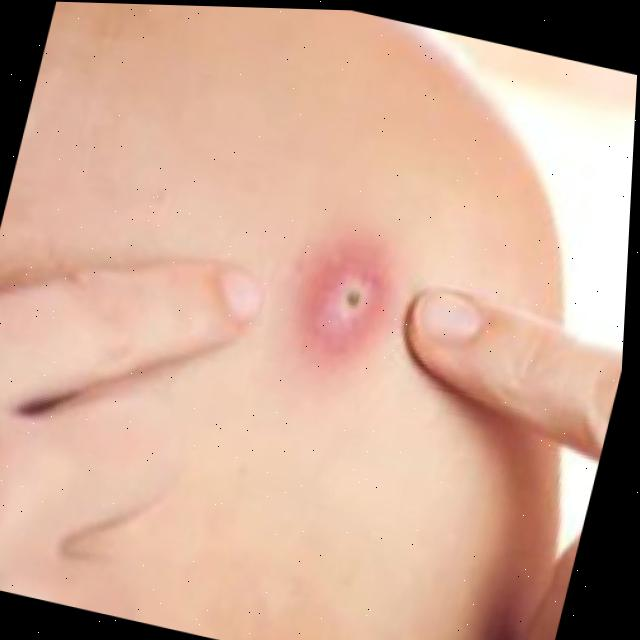Eczema: (304, 262, 388, 356)
